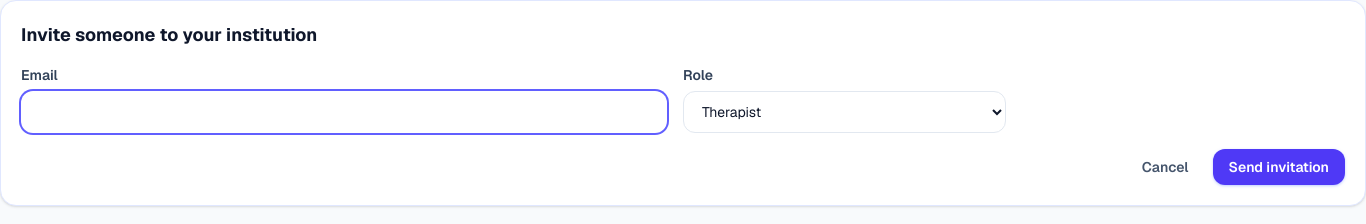
InviteForm › offers a room only for clients, and no parent role
Expected: the field labelled "Room (optional)" is not shown
Step 1. Select "Patient/Client" in the dropdown labelled "Role" → (844, 112), box x1=683 y1=91 x2=1006 y2=133
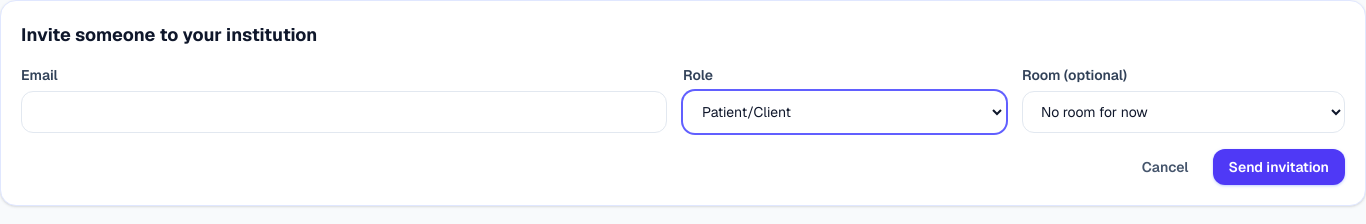
Now the dropdown labelled "Room (optional)" is shown, box x1=1022 y1=91 x2=1345 y2=133
